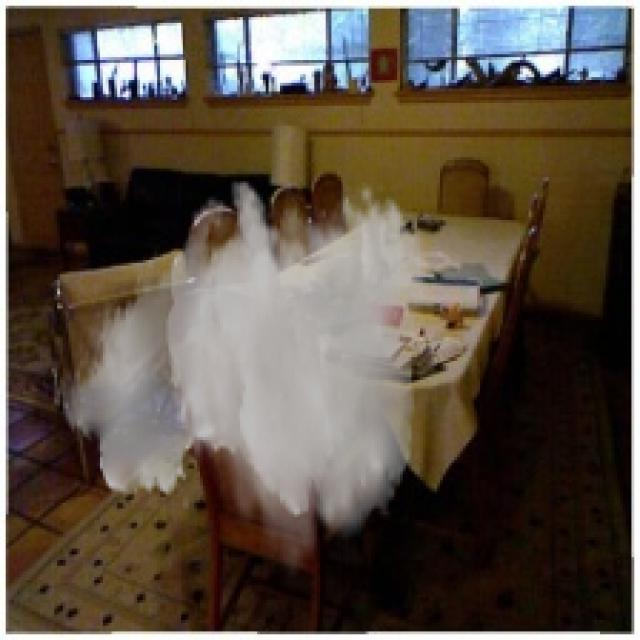smoke: (51, 177, 426, 583)
